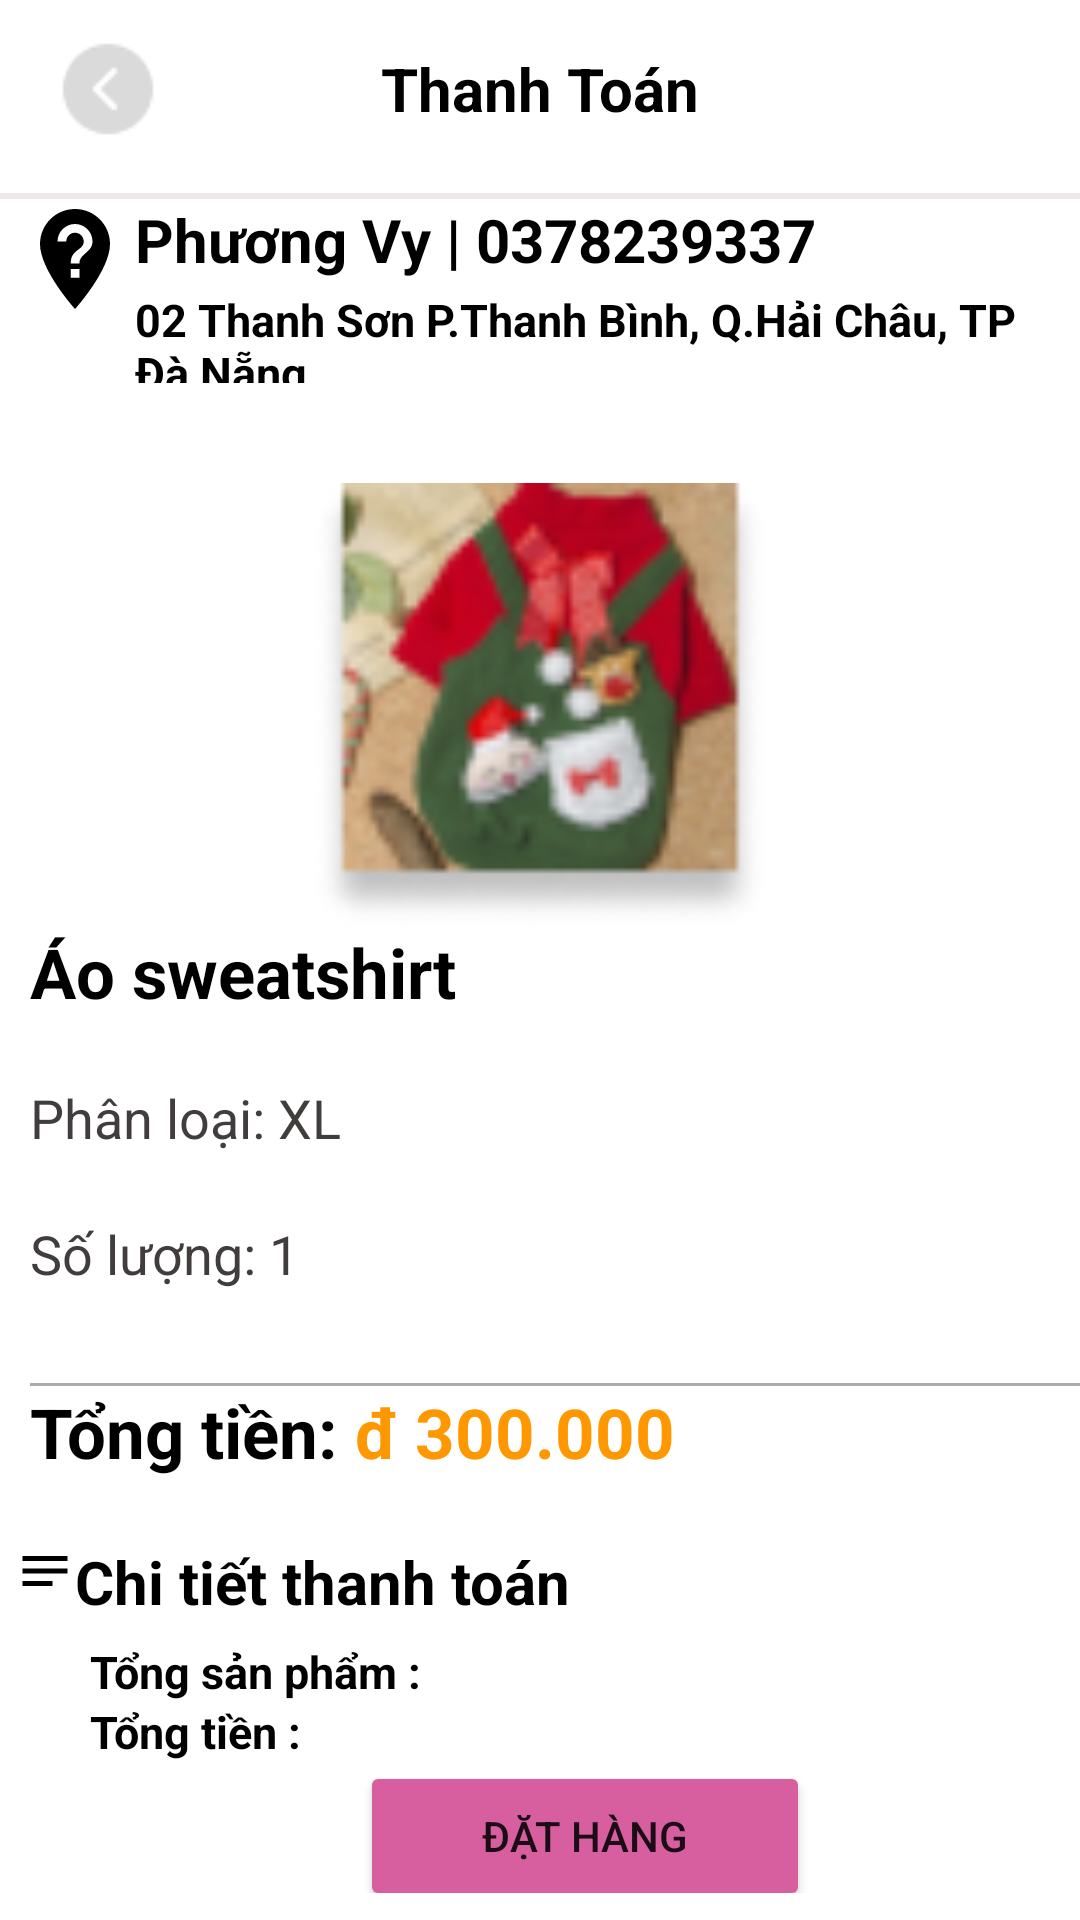

Named icons in this screenshot (1080 × 1920) and their bounding boxes, (x1, y1, x2, y2):
back: (64, 45, 152, 133)
not listed location: (40, 209, 110, 309)
